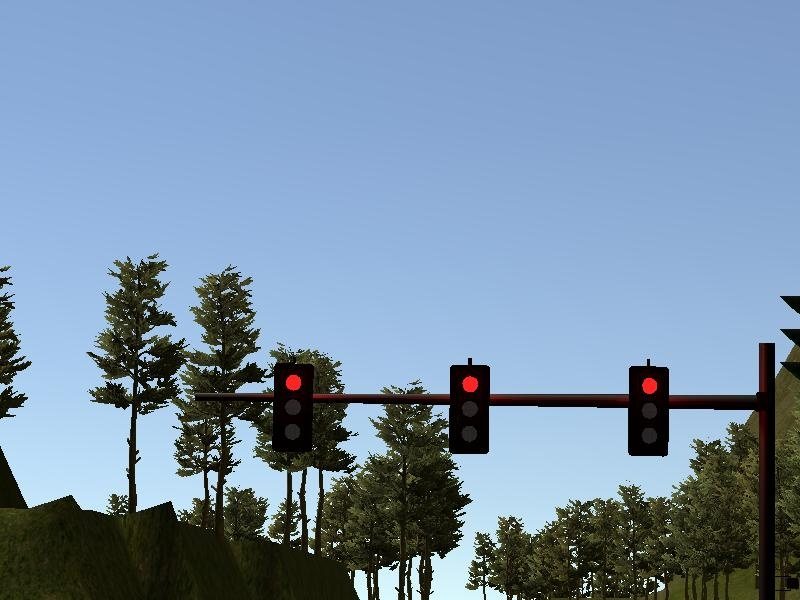Red: (625, 364, 671, 457), (272, 361, 314, 454), (449, 363, 490, 456)
